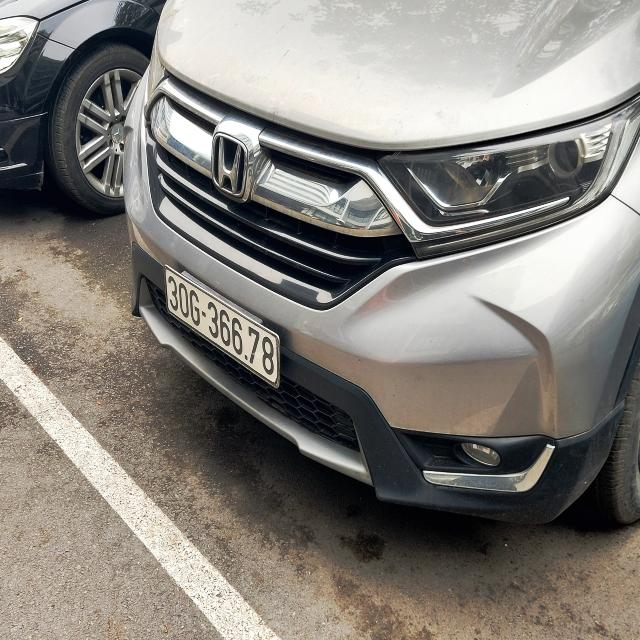license_plate: (165, 265, 282, 389)
